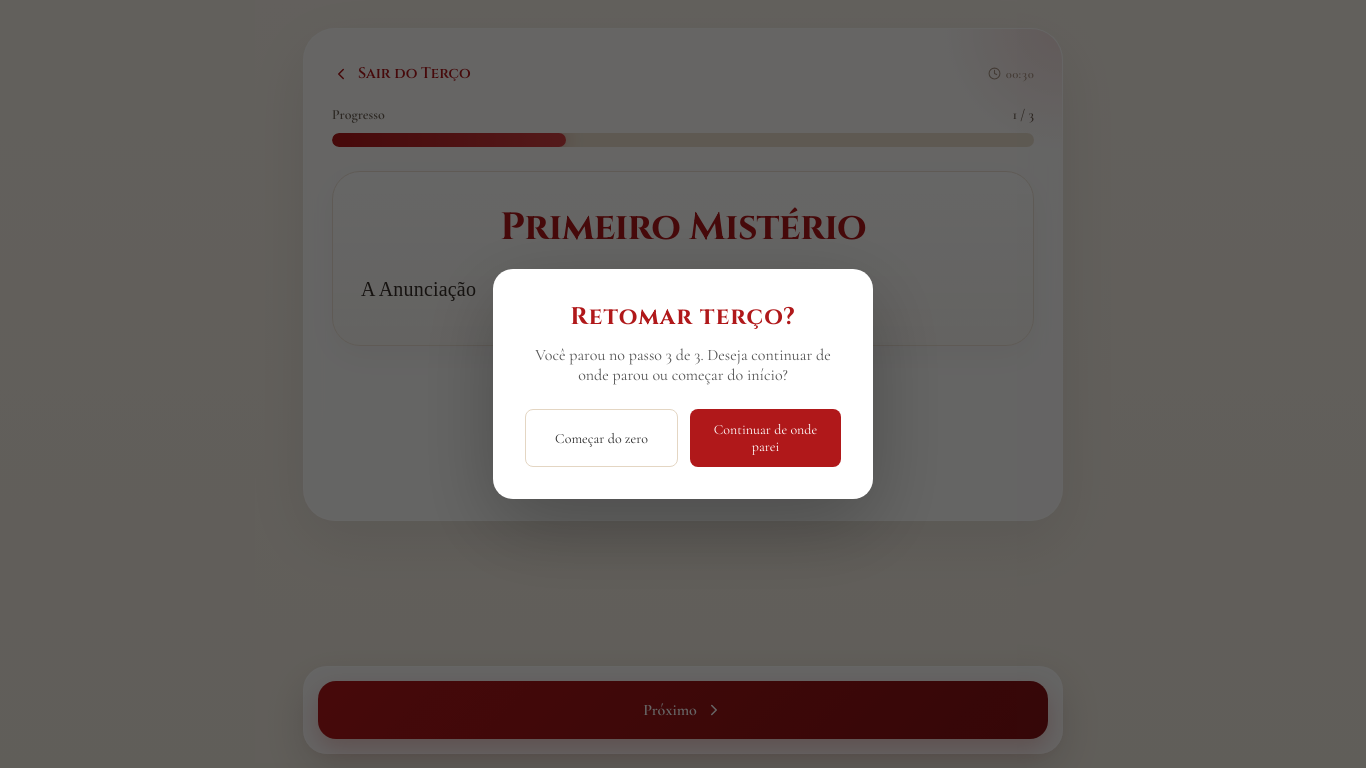
Test: RosaryPage › offers to resume when the saved session is mid-rosary
expect the heading "Retomar terço?" is shown: met, box top-left (570, 301), bottom-right (796, 333)
Click the button "Continuar de onde parei" at (766, 438), box top-left (690, 409), bottom-right (841, 467)
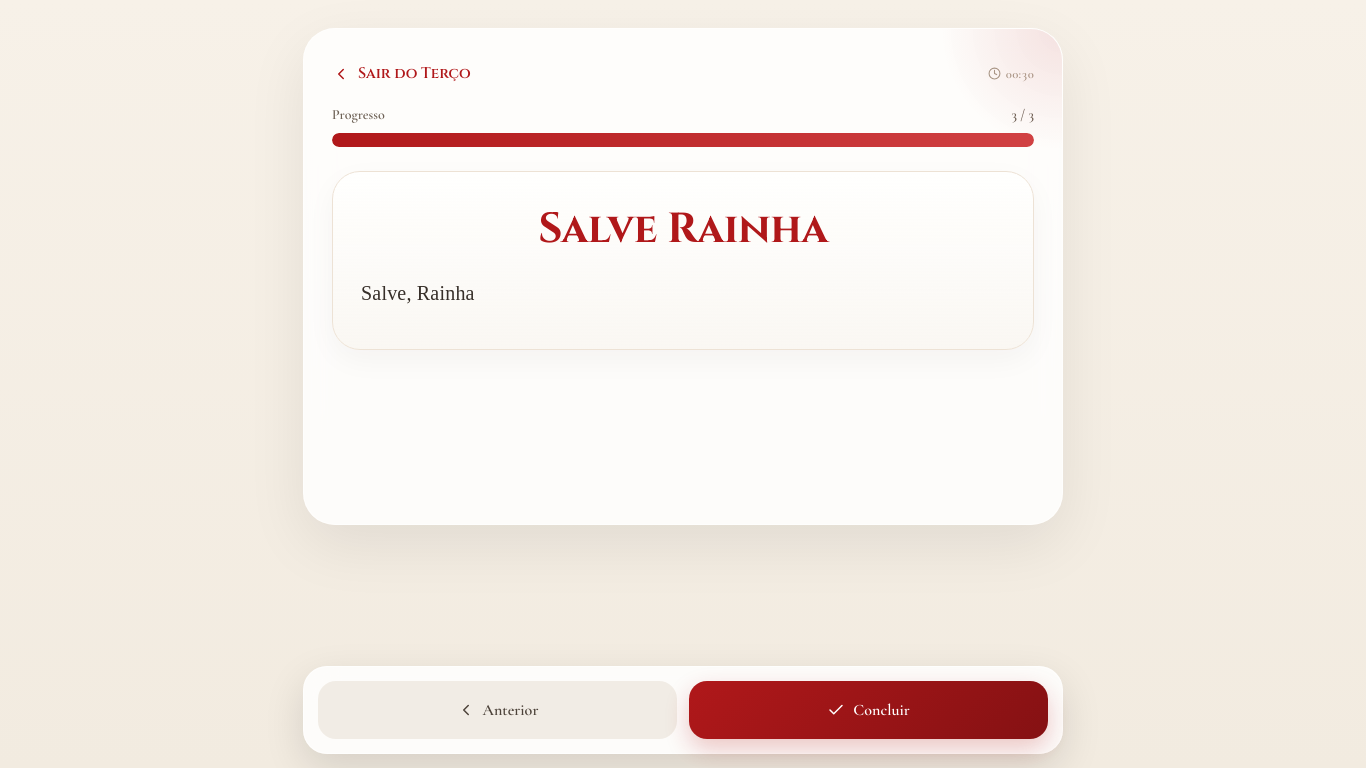
expect the text "3 / 3" is shown: met, box top-left (1012, 106), bottom-right (1034, 123)
